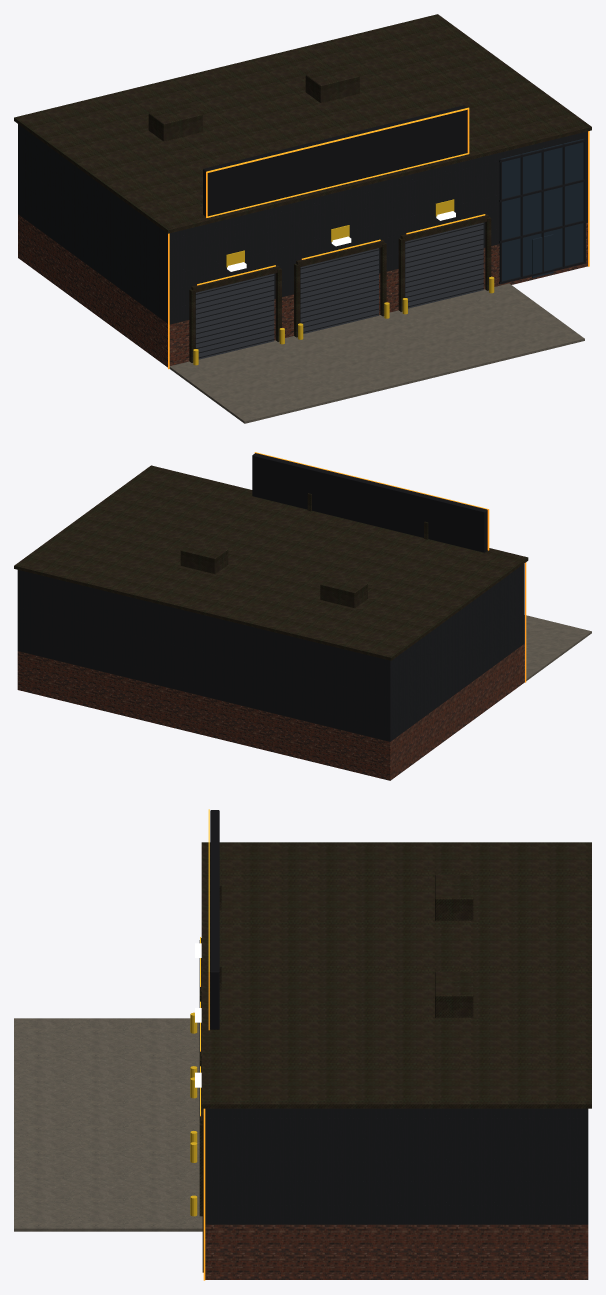
File: OT_PlayerGarage_A.glb
3 renders of one model, top to bottom at view 1: azimuth 30°, elevation 25°; view 2: azimuth 150°, elevation 25°; view 3: azimuth 270°, elevation 25°, orthographic. The views are drawn at different scales.
Parts seen in each view (by area): view 1: OT_PlayerGarage_A_Metal, OT_PlayerGarage_A_Corrugated, OT_PlayerGarage_A_Concrete, OT_PlayerGarage_A_RollDoor__3a3d42, OT_PlayerGarage_A_SignPanel__121214, OT_PlayerGarage_A_Brick, OT_PlayerGarage_A_Glass__1e2a34, OT_PlayerGarage_A_Frame__16171a, OT_PlayerGarage_A_Neon__ff6a14, OT_PlayerGarage_A_Yellow__e8b81e; view 2: OT_PlayerGarage_A_Metal, OT_PlayerGarage_A_Corrugated, OT_PlayerGarage_A_Brick, OT_PlayerGarage_A_SignPanel__121214, OT_PlayerGarage_A_Concrete, OT_PlayerGarage_A_Neon__ff6a14; view 3: OT_PlayerGarage_A_Metal, OT_PlayerGarage_A_Corrugated, OT_PlayerGarage_A_Concrete, OT_PlayerGarage_A_Brick, OT_PlayerGarage_A_SignPanel__121214, OT_PlayerGarage_A_Neon__ff6a14, OT_PlayerGarage_A_Yellow__e8b81e.
Part boxes in pixels (x1,y1,x2,y2): OT_PlayerGarage_A_Metal: (14, 14, 591, 362); OT_PlayerGarage_A_Corrugated: (18, 124, 587, 324); OT_PlayerGarage_A_Concrete: (169, 283, 584, 423); OT_PlayerGarage_A_RollDoor__3a3d42: (195, 222, 483, 359); OT_PlayerGarage_A_SignPanel__121214: (203, 105, 467, 216); OT_PlayerGarage_A_Brick: (18, 214, 587, 367); OT_PlayerGarage_A_Glass__1e2a34: (501, 139, 583, 281); OT_PlayerGarage_A_Frame__16171a: (195, 138, 586, 358); OT_PlayerGarage_A_Neon__ff6a14: (168, 107, 589, 369); OT_PlayerGarage_A_Yellow__e8b81e: (193, 199, 494, 365); OT_PlayerGarage_A_Metal: (14, 465, 528, 660); OT_PlayerGarage_A_Corrugated: (17, 563, 524, 741); OT_PlayerGarage_A_Brick: (17, 644, 524, 780); OT_PlayerGarage_A_SignPanel__121214: (252, 453, 487, 552); OT_PlayerGarage_A_Concrete: (524, 615, 591, 681); OT_PlayerGarage_A_Neon__ff6a14: (254, 452, 526, 682); OT_PlayerGarage_A_Metal: (199, 842, 591, 1216); OT_PlayerGarage_A_Corrugated: (205, 1108, 588, 1224); OT_PlayerGarage_A_Concrete: (14, 1018, 202, 1231); OT_PlayerGarage_A_Brick: (205, 1224, 588, 1279); OT_PlayerGarage_A_SignPanel__121214: (210, 810, 219, 1029); OT_PlayerGarage_A_Neon__ff6a14: (200, 809, 209, 1280); OT_PlayerGarage_A_Yellow__e8b81e: (190, 1012, 197, 1216).
Size of the model in its own units: 32.4 by 13.6 by 30.2.
11 materials, 4 textured.
